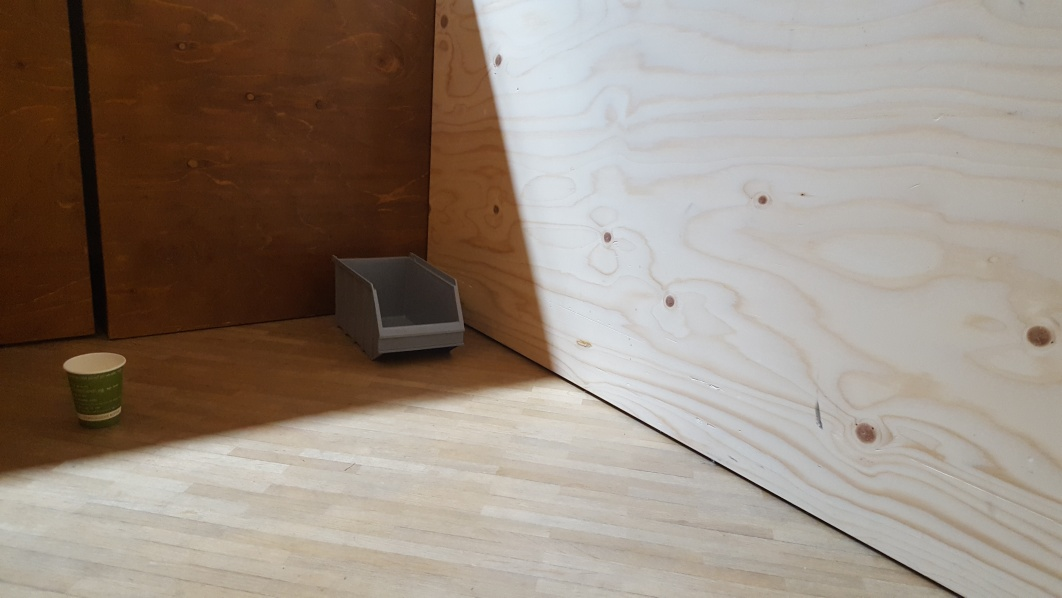cup: (61, 352, 133, 424)
tray: (331, 247, 472, 365)
